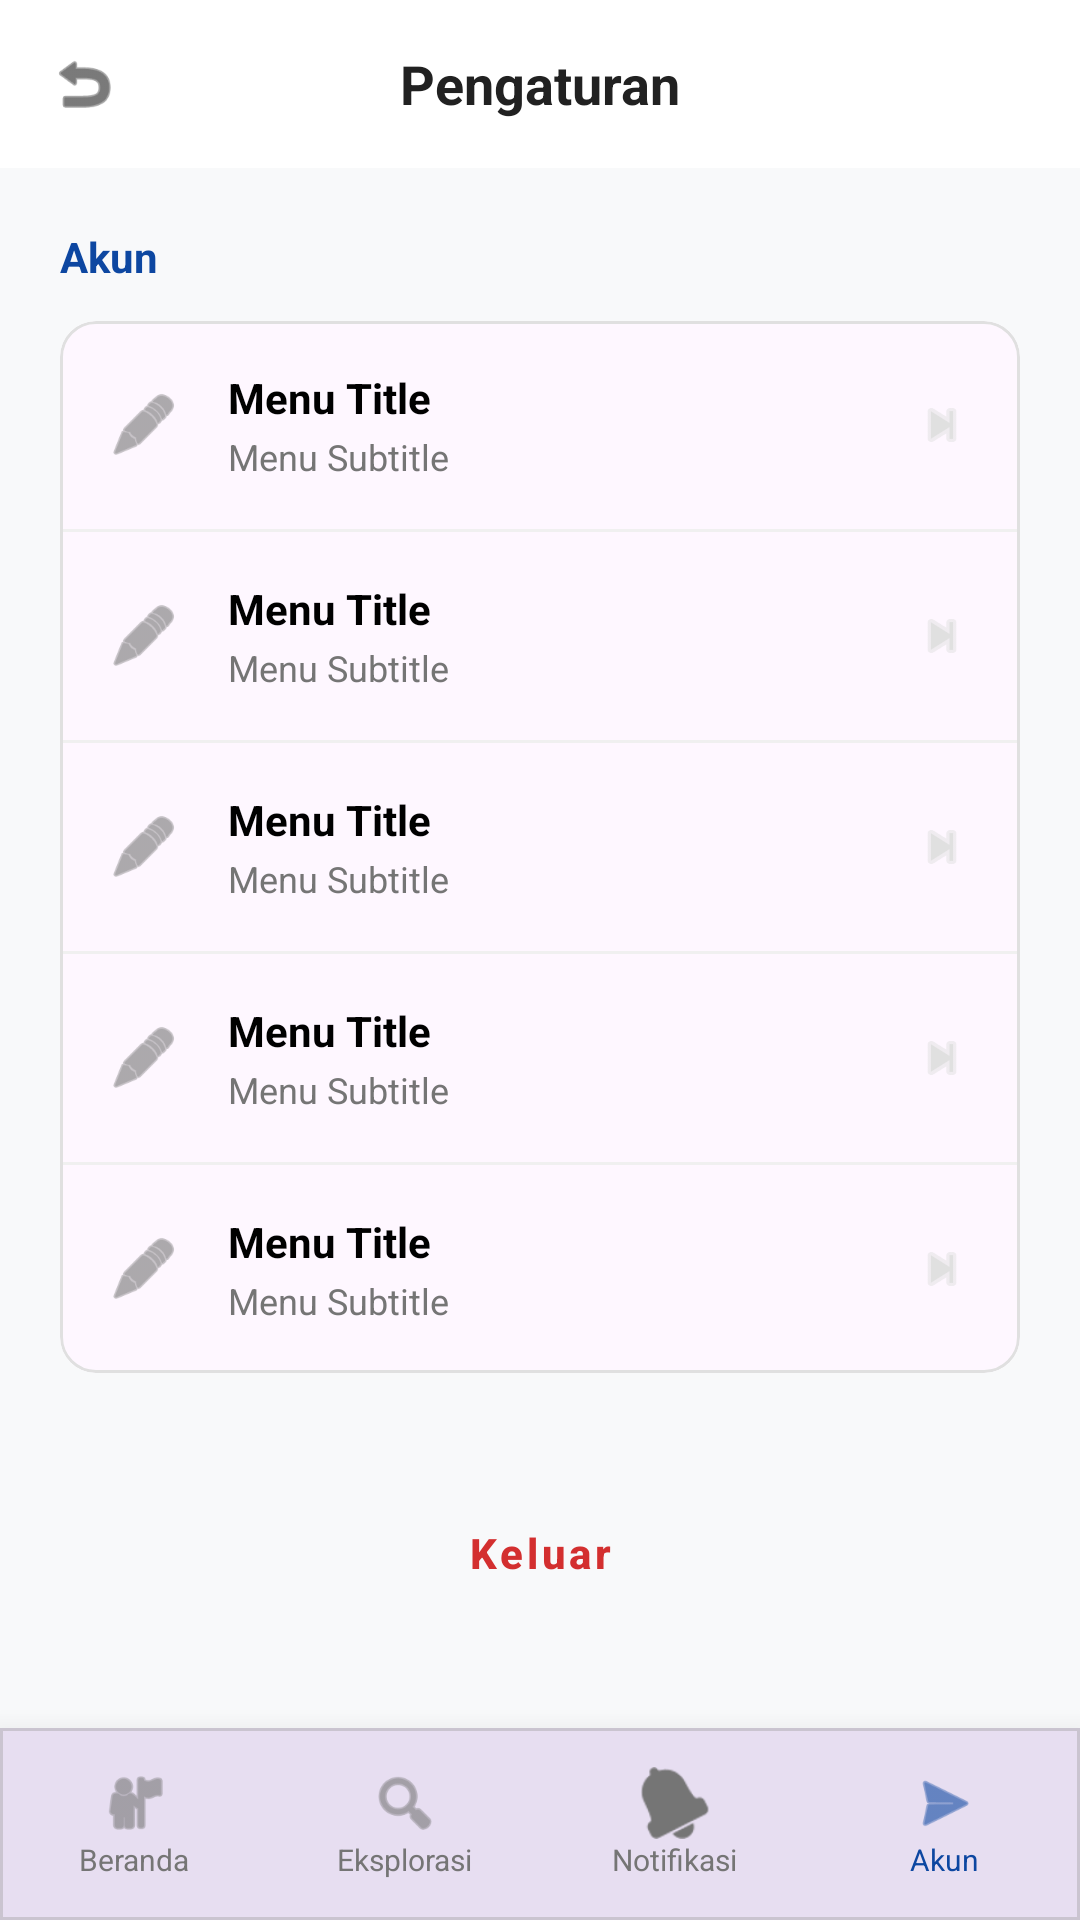

Icon click points for this 1080px x 1920px phone screenshot, format point (x, y):
Back: point (85, 84)
edit: point (143, 424), point (143, 635), point (143, 846), point (143, 1057), point (143, 1268)
next: point (942, 425), point (942, 636), point (942, 847), point (942, 1058), point (942, 1269)
